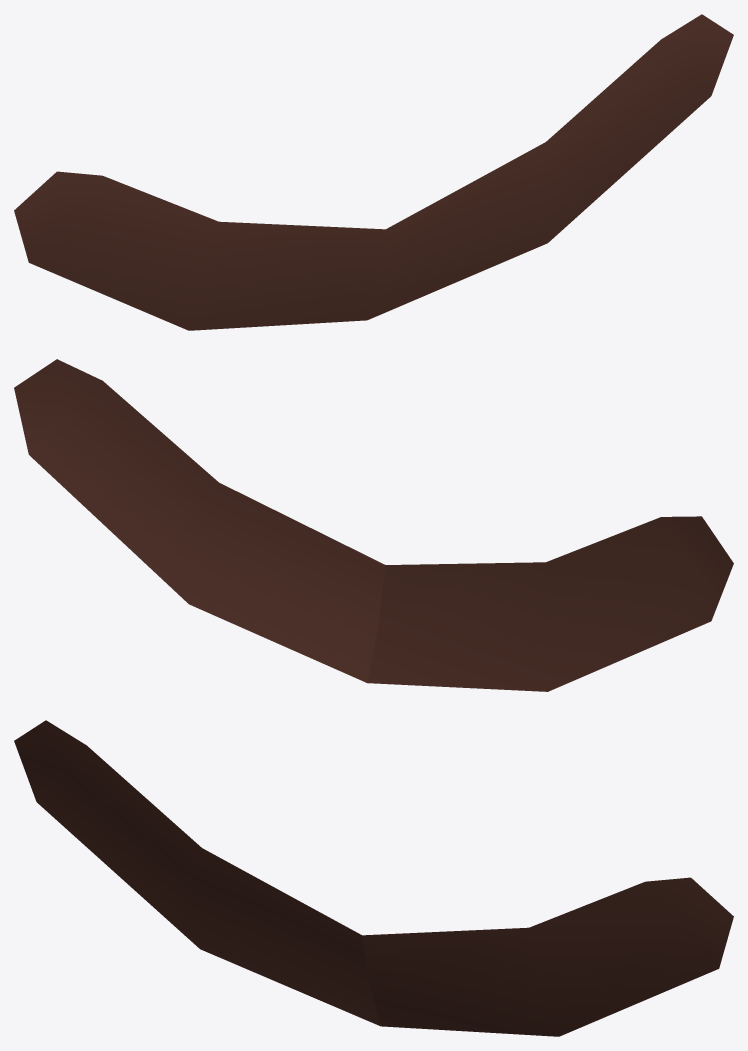
The model's file is Mouth_Black_1.fbx.
The picture shows the model from 3 angles, top to bottom: view 1: azimuth 30°, elevation 25°; view 2: azimuth 150°, elevation 25°; view 3: azimuth 330°, elevation 25°; orthographic projection.
Visible parts, largest first — view 1: Mouth_Black_1; view 2: Mouth_Black_1; view 3: Mouth_Black_1.
Boxes of the visible parts, left/top/right/bottom form: Mouth_Black_1: left=14, top=14, right=733, bottom=330; Mouth_Black_1: left=14, top=359, right=733, bottom=691; Mouth_Black_1: left=14, top=720, right=733, bottom=1036.
Bounding box in the file's own units: 7.29 × 2.29 × 0.3234.
